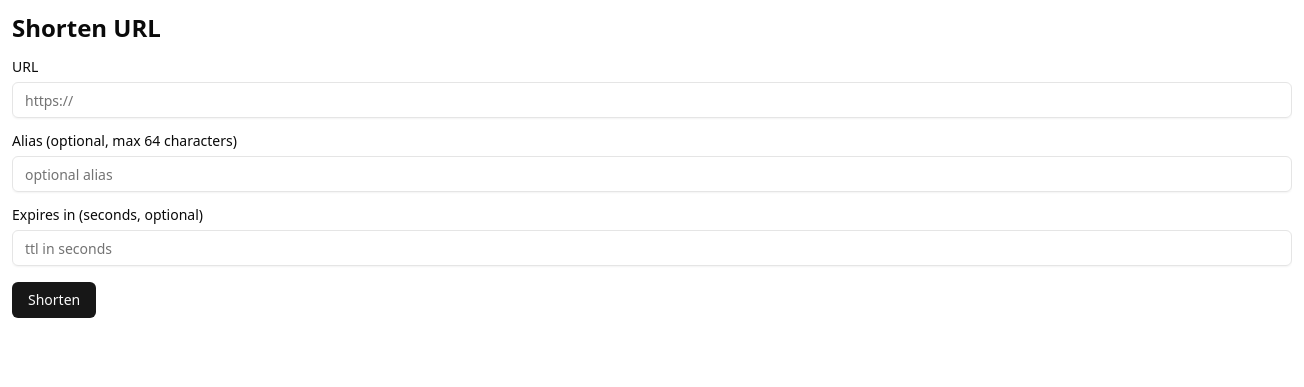
Test: HomePage › 429 with Retry-After shows N seconds
Type "https://ratelimit.example.com" into the field labelled "URL".
click(652, 100); type("https://ratelimit.example.com")  # box [12,82,1292,118]
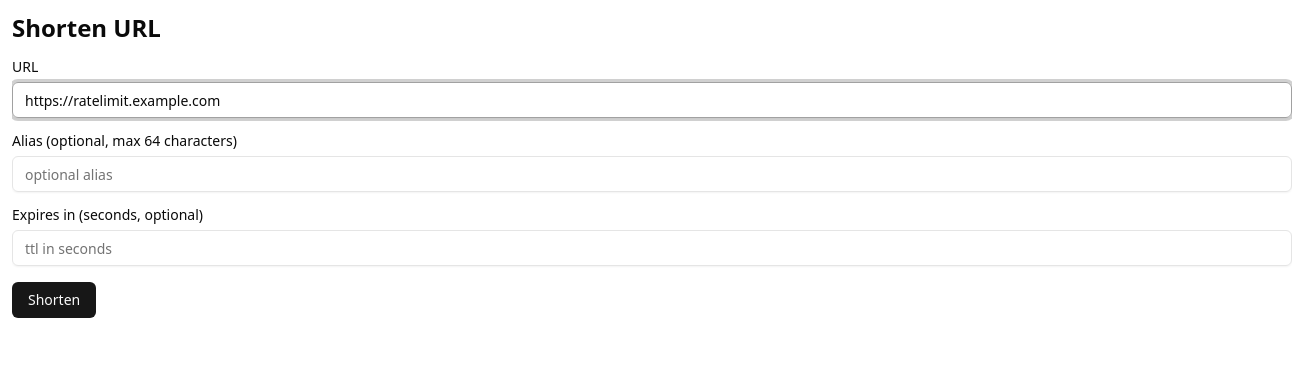
Click the button "Shorten".
click(54, 300)  # box [12,282,96,318]
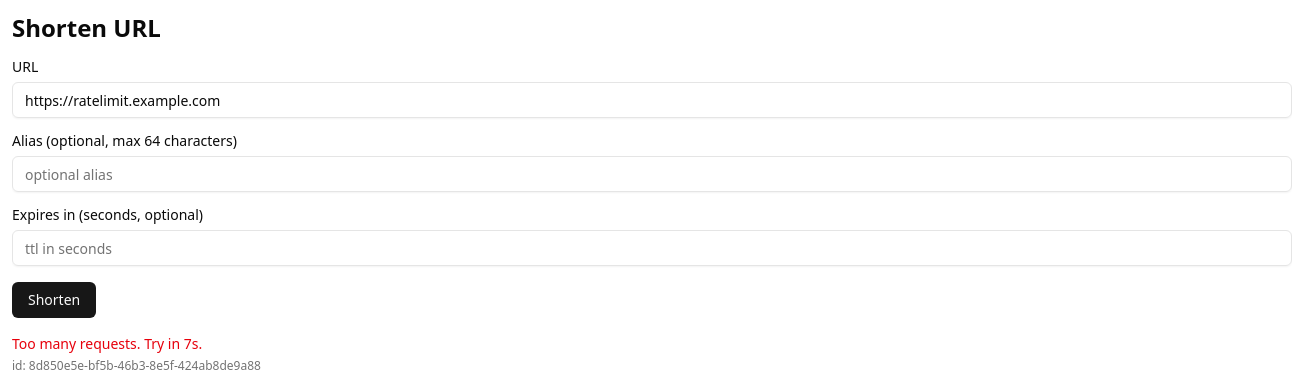
Result: the text "Too many requests. Try in 7s." is shown at [12,334,202,353]
